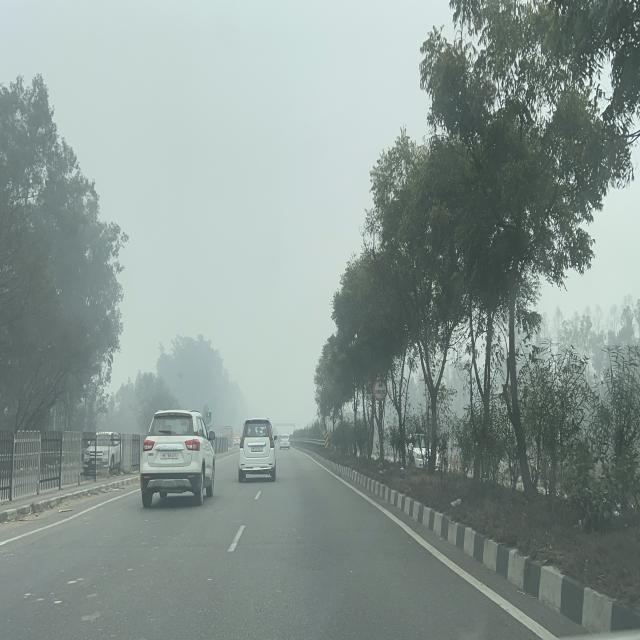NO_PARKING: (373, 378, 387, 401)
